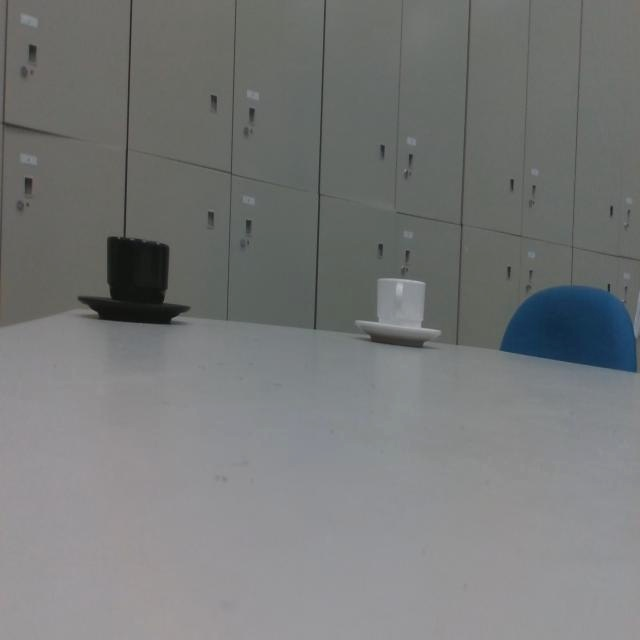black: (76, 225, 194, 332)
white: (351, 264, 447, 352)
